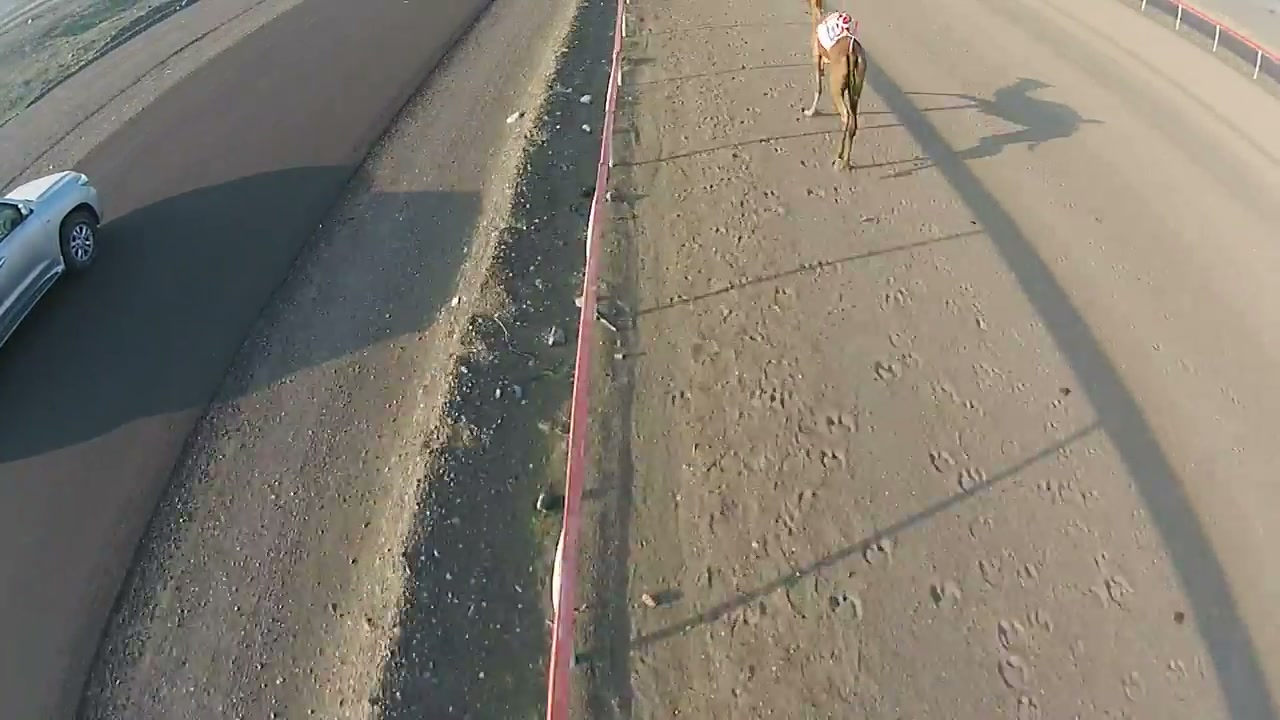animal_foot_print: (806, 166, 1093, 719)
